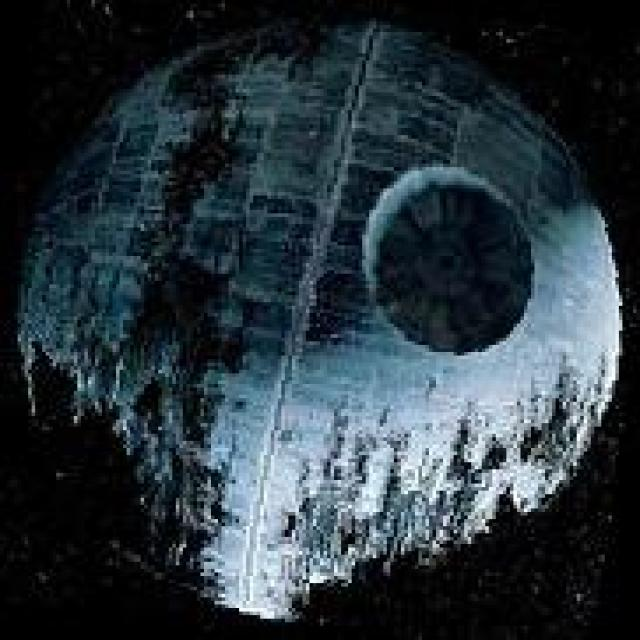Death Star: (11, 0, 630, 622)
